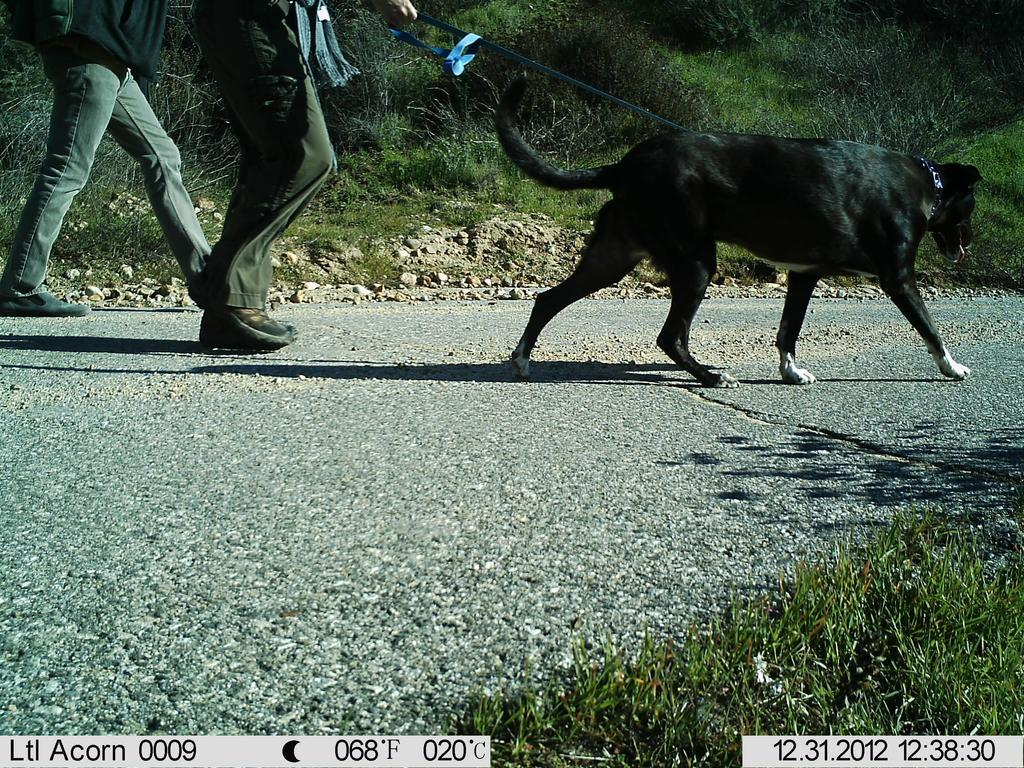dog: (498, 67, 982, 395)
